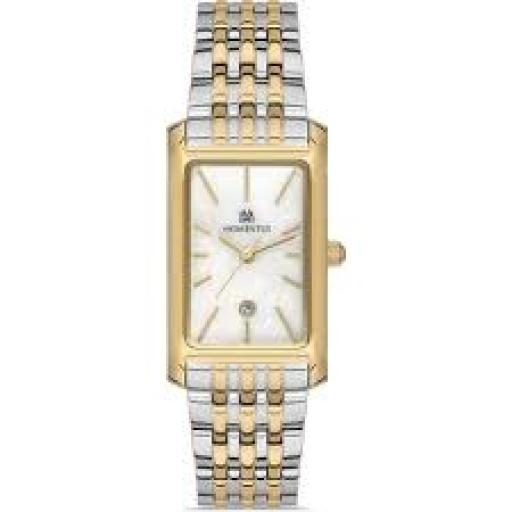KolSaati: (143, 0, 386, 512)
